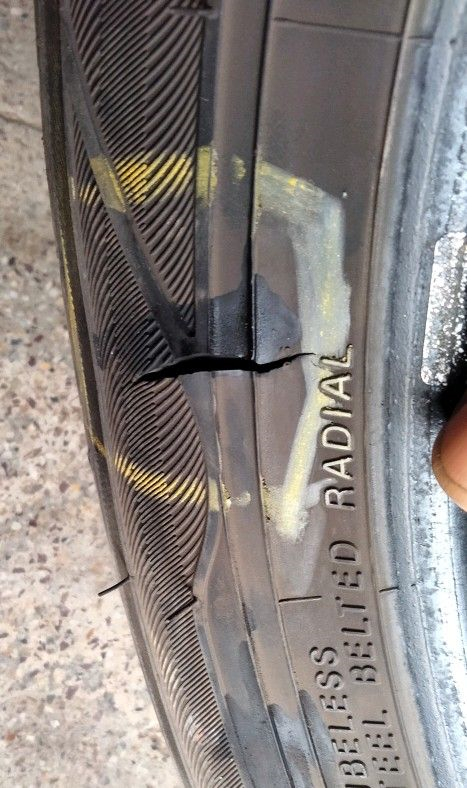cut: (130, 350, 319, 385)
